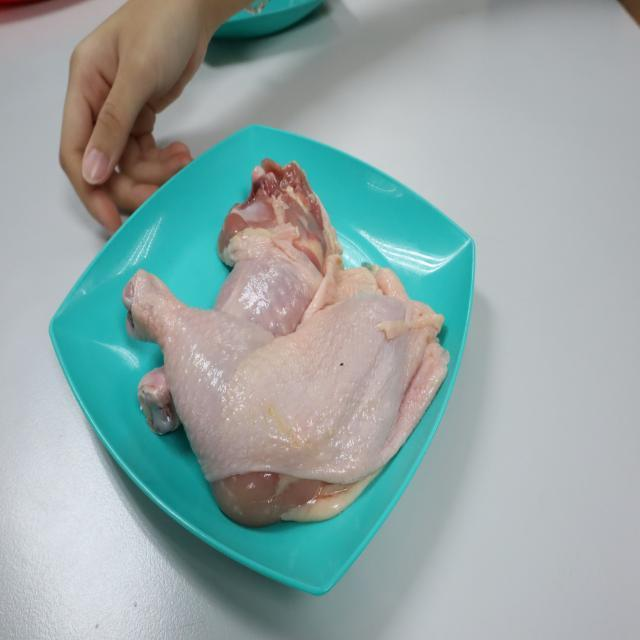quater: (120, 260, 447, 524), (152, 154, 340, 443)
